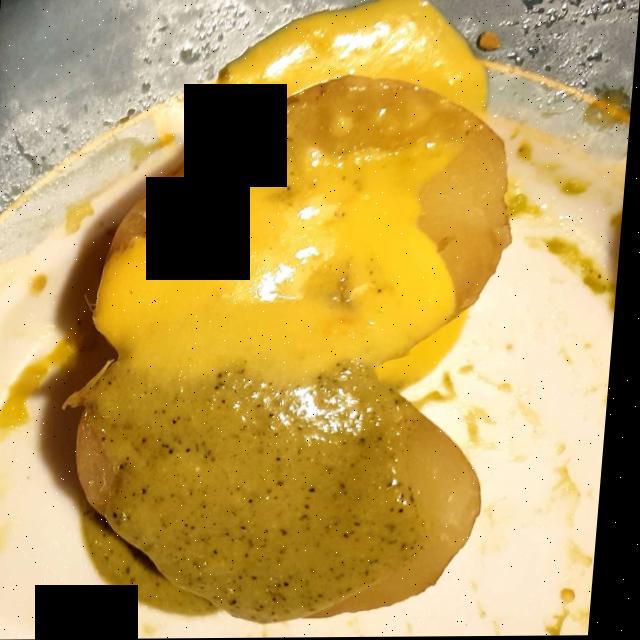cheese: (108, 9, 485, 377)
cream-spinach: (94, 367, 425, 618)
potatoes-steamed: (87, 82, 502, 611)
